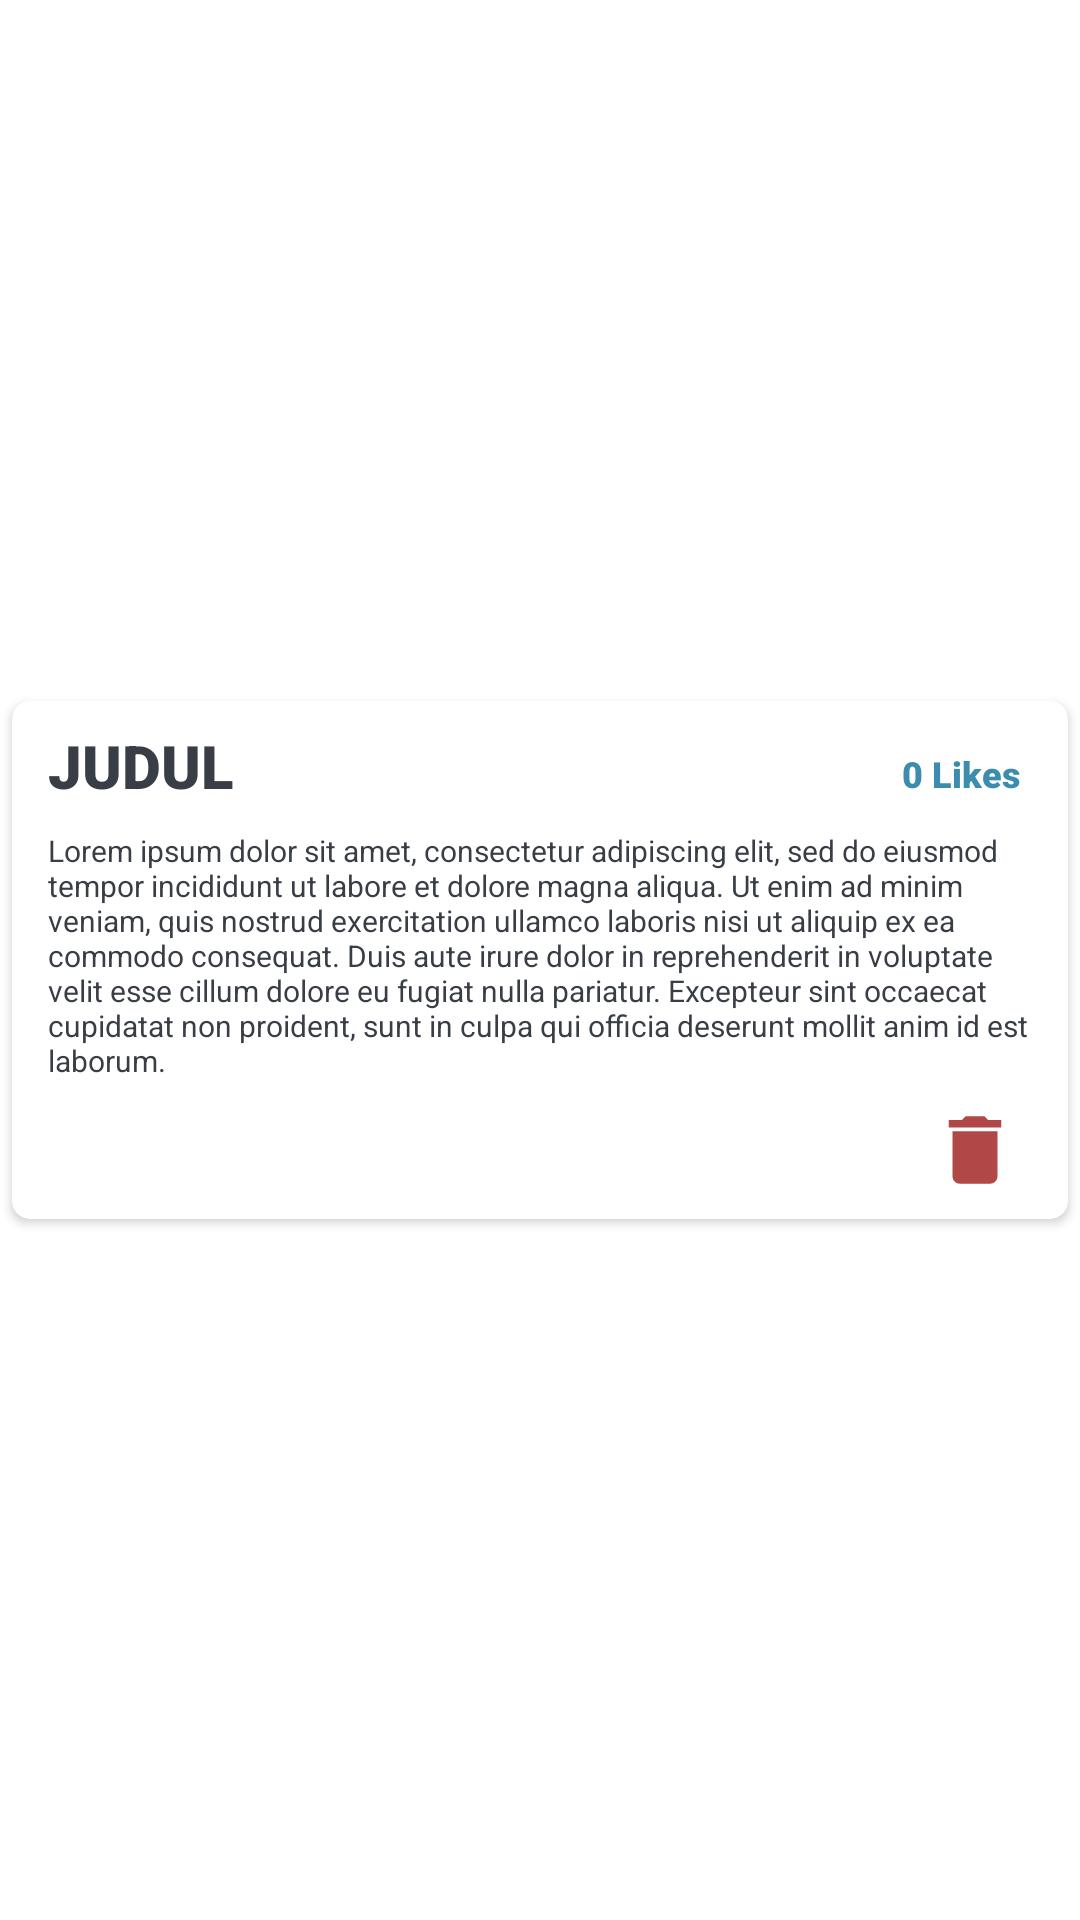

Screen size 1080 × 1920. Icon name, then its center in pixels as [x,y]:
delete: [975,1150]
